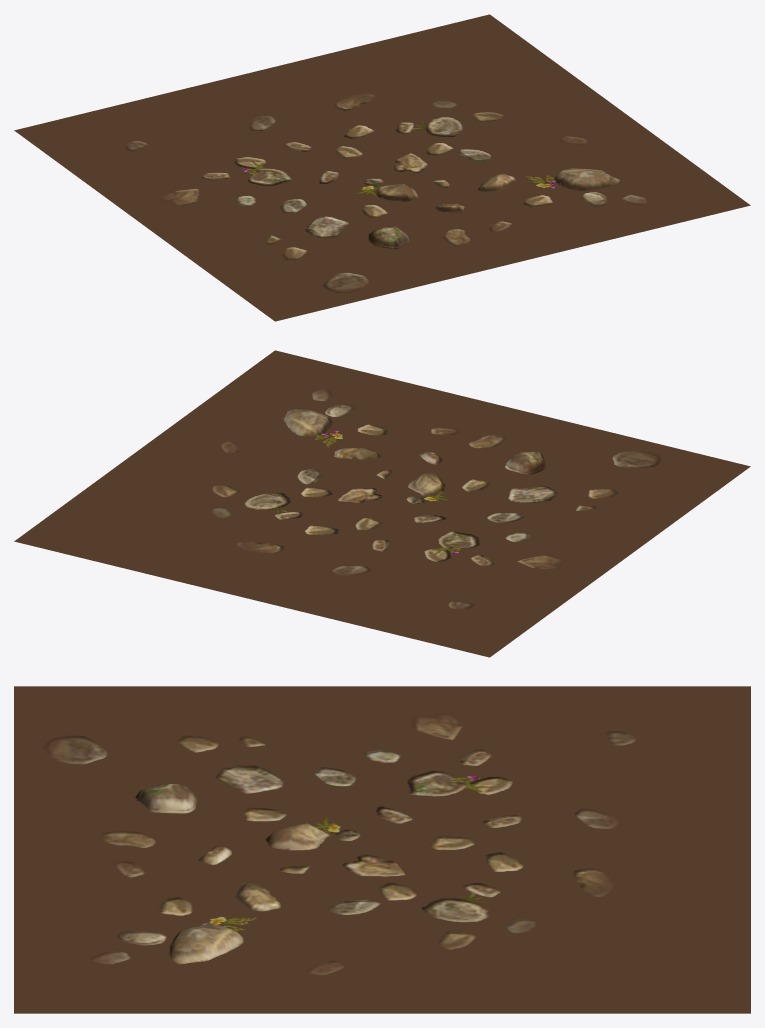
Rendered from stone0.FBX.
The picture shows the model from 3 angles, top to bottom: view 1: azimuth 30°, elevation 25°; view 2: azimuth 150°, elevation 25°; view 3: azimuth 270°, elevation 25°; orthographic projection. The views are drawn at different scales.
Visible parts, largest first — view 1: stone0; view 2: stone0; view 3: stone0.
Part boxes in pixels (x1,y1,x2,y2): stone0: [14, 14, 750, 321]; stone0: [14, 350, 750, 657]; stone0: [14, 686, 750, 1013].
Bounding box in the file's own units: 293 × 6.9 × 279.
